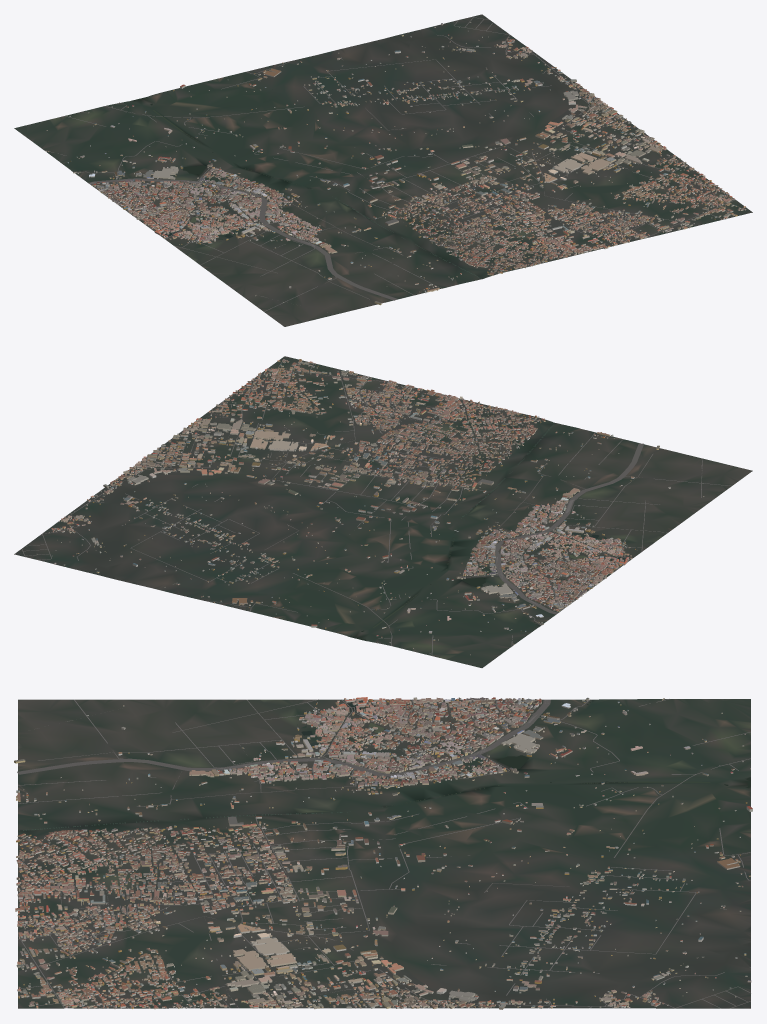
3 views of the same model, one above another, from view 1: azimuth 30°, elevation 25°; view 2: azimuth 150°, elevation 25°; view 3: azimuth 270°, elevation 25° (orthographic). The views are drawn at different scales.
Visible parts, largest first — view 1: ground, buildings, roads, water; view 2: ground, buildings, roads, water; view 3: ground, buildings, roads, water.
Part boxes in pixels (bbox=[...]): ground: bbox=[14, 14, 752, 326]; buildings: bbox=[45, 22, 746, 305]; roads: bbox=[44, 17, 739, 312]; water: bbox=[74, 97, 481, 278]; ground: bbox=[14, 356, 752, 667]; buildings: bbox=[36, 359, 704, 655]; roads: bbox=[22, 362, 731, 655]; water: bbox=[350, 424, 624, 640]; ground: bbox=[18, 699, 750, 1008]; buildings: bbox=[14, 697, 752, 1009]; roads: bbox=[17, 699, 750, 1008]; water: bbox=[19, 700, 750, 830].
Bounding box in the file's own units: 2821 × 23.81 × 2827.
